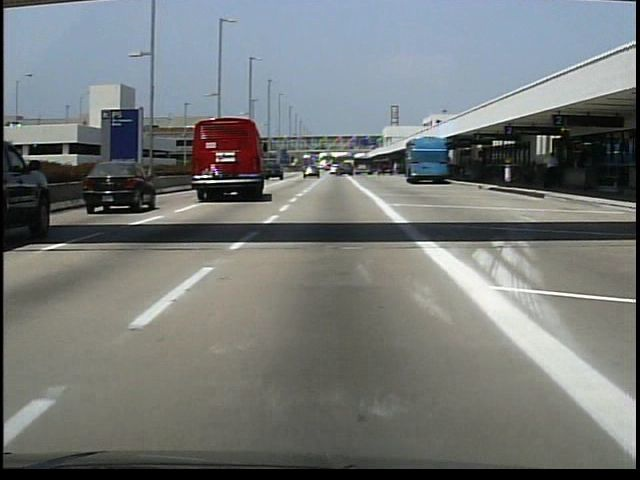person: (544, 154, 559, 190)
